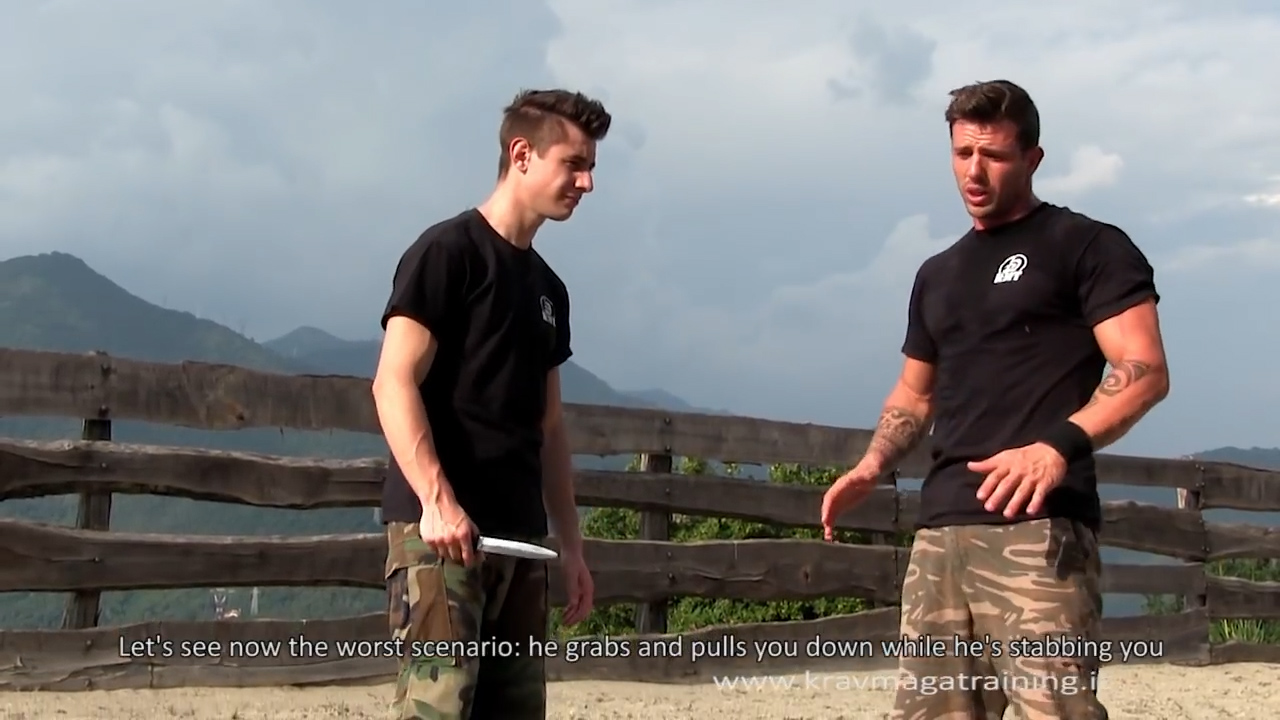knife: (412, 515, 568, 570)
